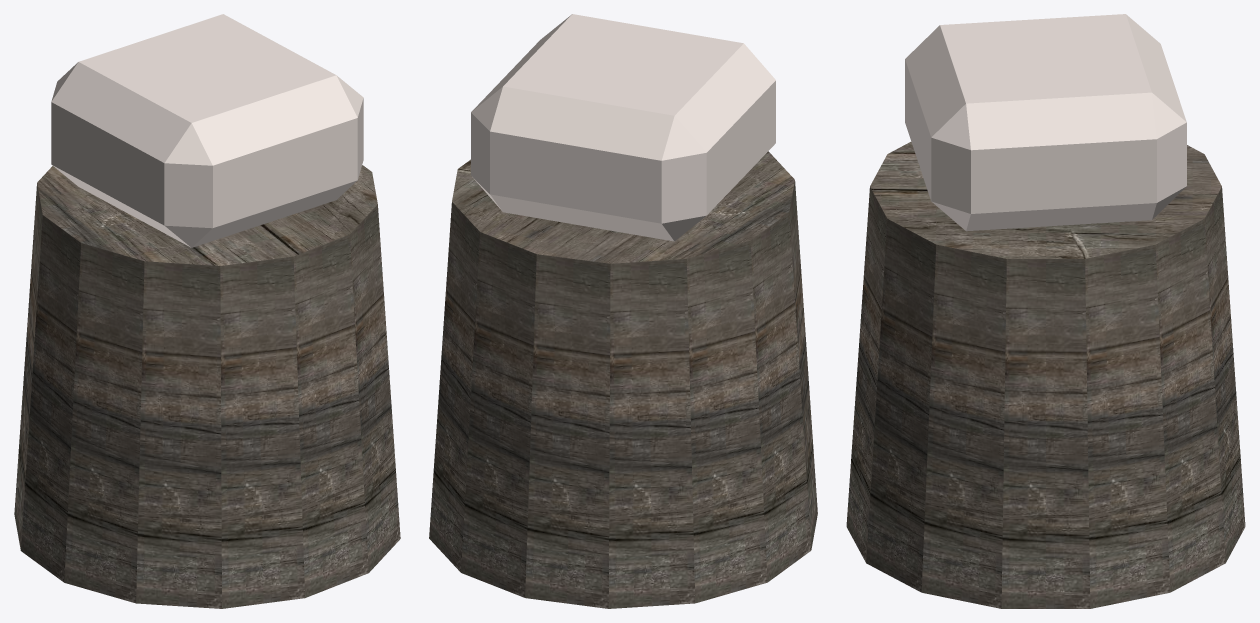
The model's file is sheep_salt_lick_a.glb.
The picture shows the model from 3 angles, left to right: view 1: azimuth 30°, elevation 25°; view 2: azimuth 150°, elevation 25°; view 3: azimuth 270°, elevation 25°; orthographic projection. The views are drawn at different scales.
Parts seen in each view (by area): view 1: sheep_salt_lick_a_LOD0; view 2: sheep_salt_lick_a_LOD0; view 3: sheep_salt_lick_a_LOD0.
Boxes of the visible parts, bbox=[...] form: sheep_salt_lick_a_LOD0: bbox=[14, 14, 400, 608]; sheep_salt_lick_a_LOD0: bbox=[429, 14, 817, 608]; sheep_salt_lick_a_LOD0: bbox=[846, 14, 1245, 608].
Size of what is drawn, in the model's own units: 0.3315 by 0.44 by 0.34.
Materials: 2 (1 with a texture image).
